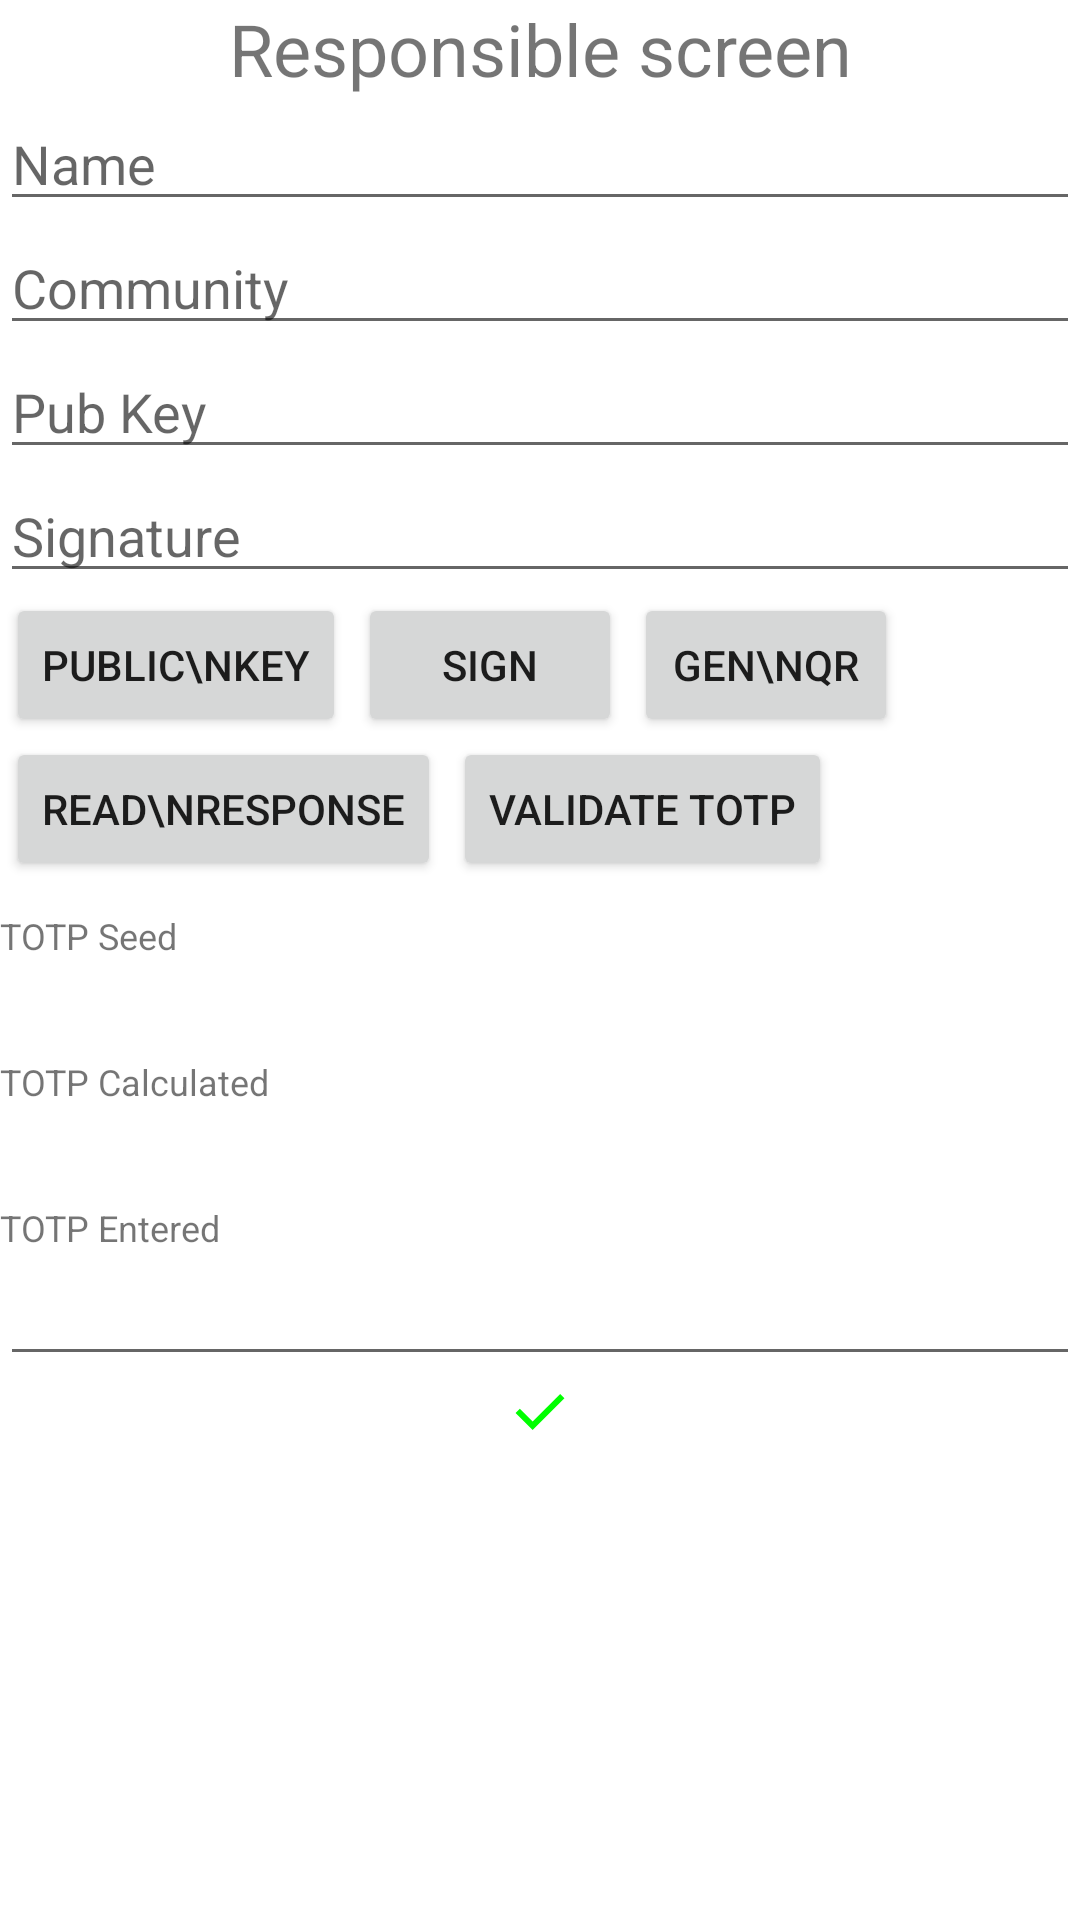

Where icons sit on this 1080 × 1920 app screen, as [x1,y1,x2,y2]:
check: [516,1394,565,1430]
